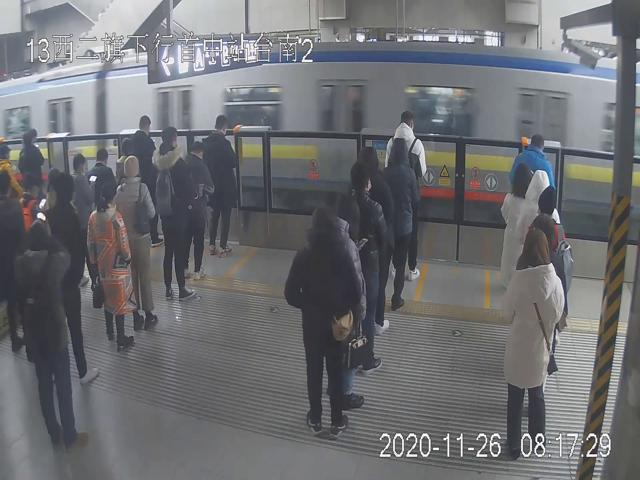person: (14, 229, 93, 451), (284, 207, 359, 436), (502, 226, 564, 451), (47, 182, 99, 384), (87, 182, 136, 352), (349, 164, 387, 375), (152, 128, 198, 302), (116, 157, 157, 331), (386, 138, 418, 313), (201, 115, 238, 258)
